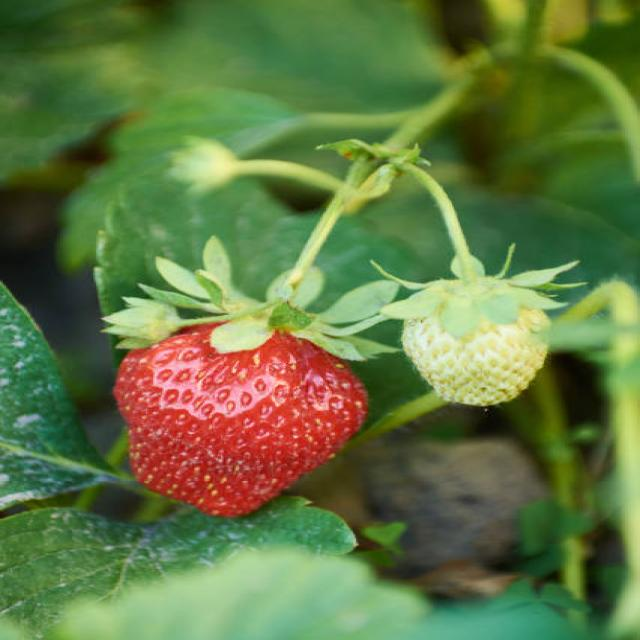Healthy Fruit: (115, 323, 368, 517), (401, 298, 550, 406)
